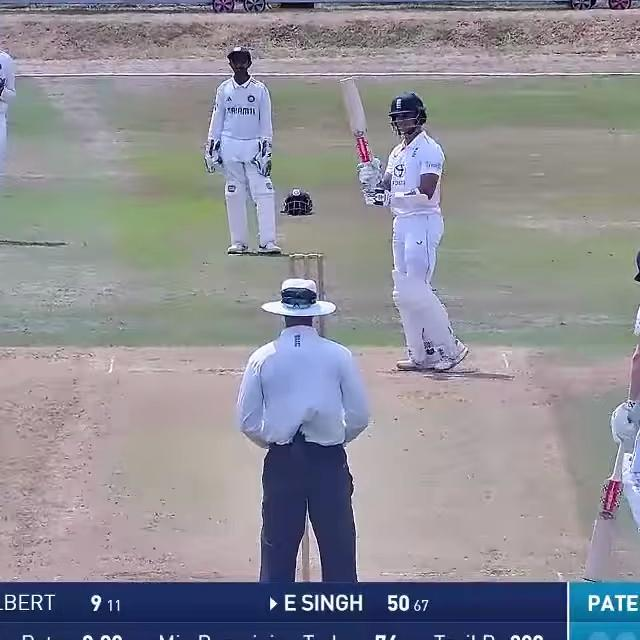umpire: (220, 268, 385, 586)
